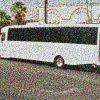buses: (0, 23, 100, 68)
